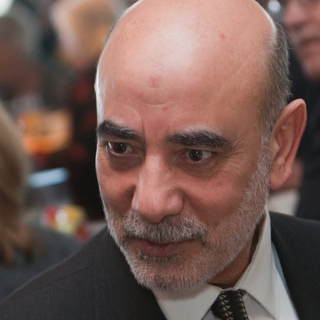eye: (174, 143, 221, 167), (101, 136, 141, 161)
